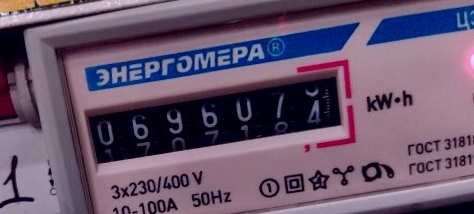0: (92, 115, 117, 148), (232, 92, 255, 124)
4: (301, 96, 324, 128)
6: (196, 97, 221, 131), (127, 110, 151, 141)
7: (266, 86, 289, 119)
9: (162, 104, 186, 136)
screen: (70, 51, 364, 186)
